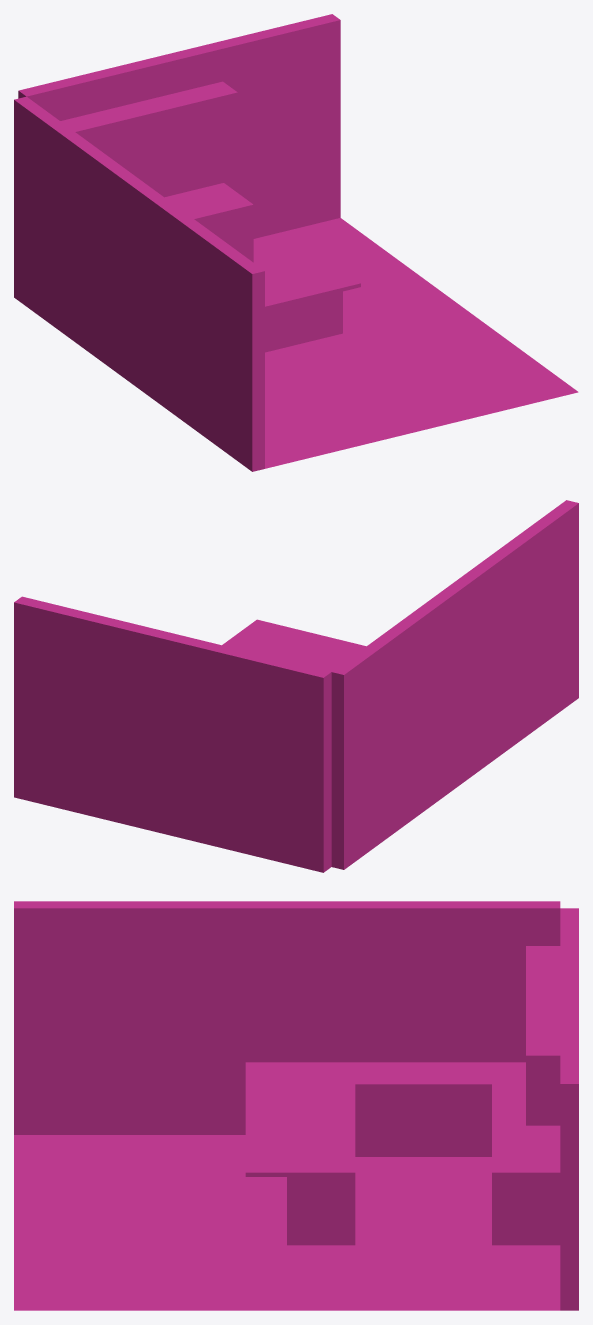
Rendered from KitchenTest2.fbx.
3 views of the same model, one above another, from view 1: azimuth 30°, elevation 25°; view 2: azimuth 150°, elevation 25°; view 3: azimuth 270°, elevation 25° (orthographic). The views are drawn at different scales.
Visible parts, largest first — view 1: Kitchen; view 2: Kitchen; view 3: Kitchen.
Part boxes in pixels (x1=…): Kitchen: x1=14, y1=14, x2=578, y2=471; Kitchen: x1=14, y1=500, x2=578, y2=872; Kitchen: x1=14, y1=901, x2=578, y2=1310.
Bounding box in the file's own units: 1531 × 886 × 2002.
